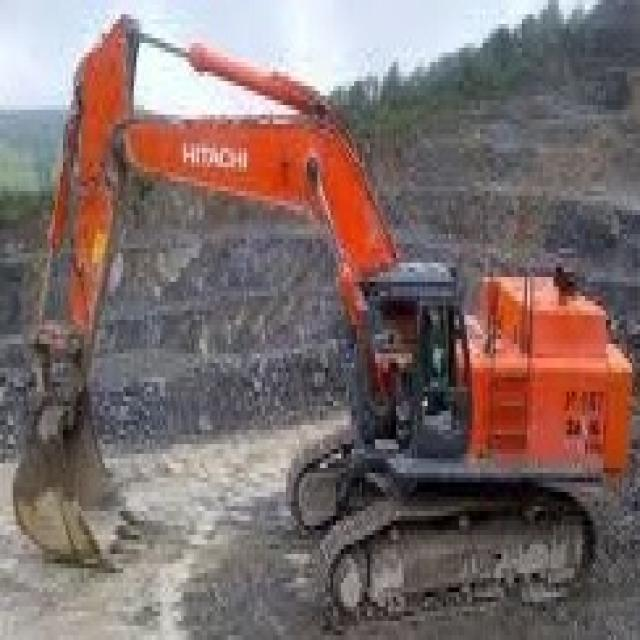excavator: (294, 264, 632, 608)
